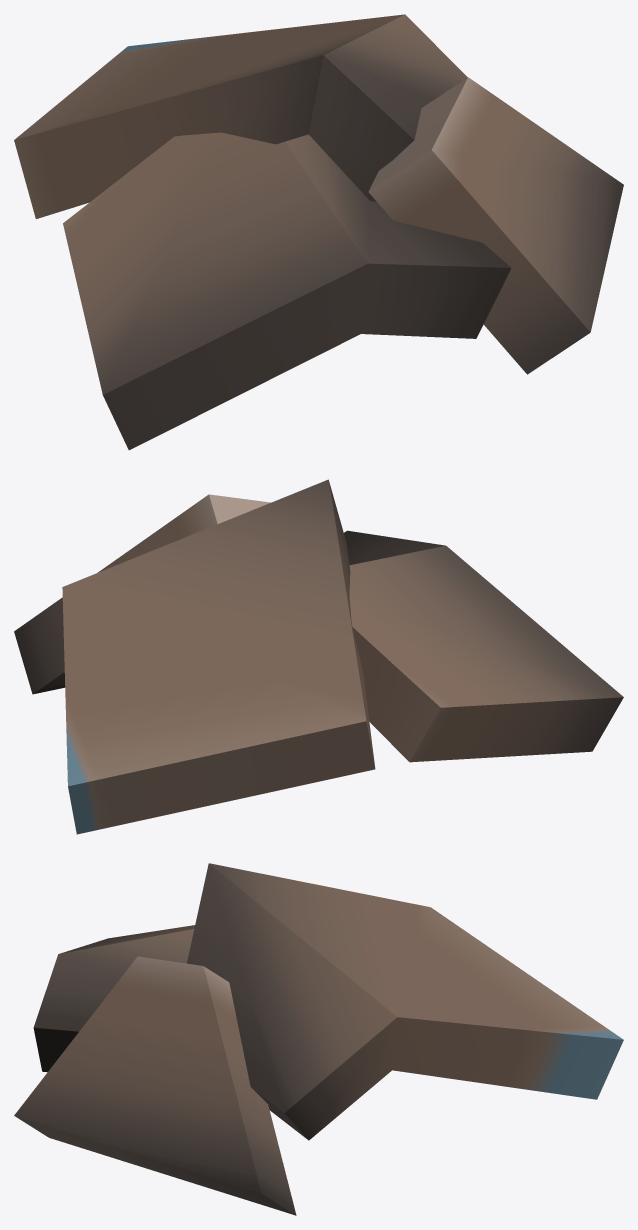
File: Building_T015.fbx
3 views of the same model, one above another, from view 1: azimuth 30°, elevation 25°; view 2: azimuth 150°, elevation 25°; view 3: azimuth 270°, elevation 25° (orthographic). The views are drawn at different scales.
Parts seen in each view (by area): view 1: Building_T015; view 2: Building_T015; view 3: Building_T015.
Boxes of the visible parts, x1,y1,x2,y2 form: Building_T015: (14, 14, 623, 450); Building_T015: (14, 479, 623, 834); Building_T015: (14, 863, 623, 1215).
Bounding box in the file's own units: 11.89 × 5.45 × 12.26.
